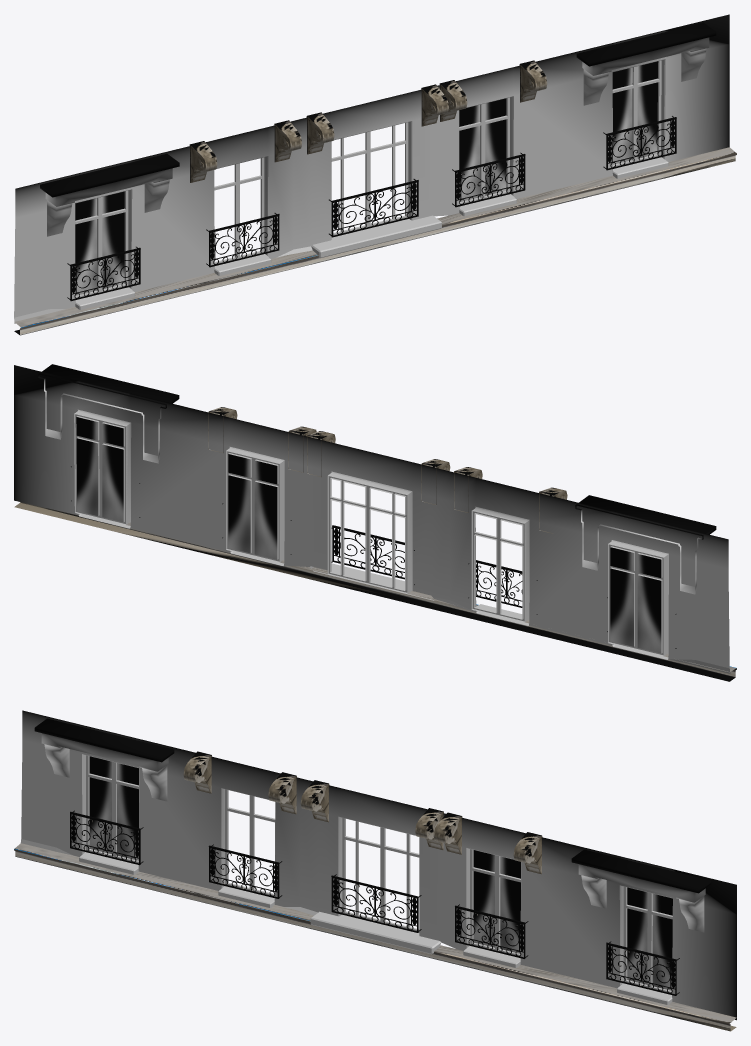
Rendered from ENV_Batiment_02_Floor_01.fbx.
3 views of the same model, one above another, from view 1: azimuth 30°, elevation 25°; view 2: azimuth 150°, elevation 25°; view 3: azimuth 330°, elevation 25° (orthographic).
Visible parts, largest first — view 1: ENV_Batiment_02_Floor_01; view 2: ENV_Batiment_02_Floor_01; view 3: ENV_Batiment_02_Floor_01.
Part boxes in pixels (x1=…): ENV_Batiment_02_Floor_01: x1=14, y1=14, x2=736, y2=335; ENV_Batiment_02_Floor_01: x1=14, y1=364, x2=736, y2=681; ENV_Batiment_02_Floor_01: x1=14, y1=710, x2=736, y2=1031.
Size of the model in its own units: 1943 by 373 by 91.45.
